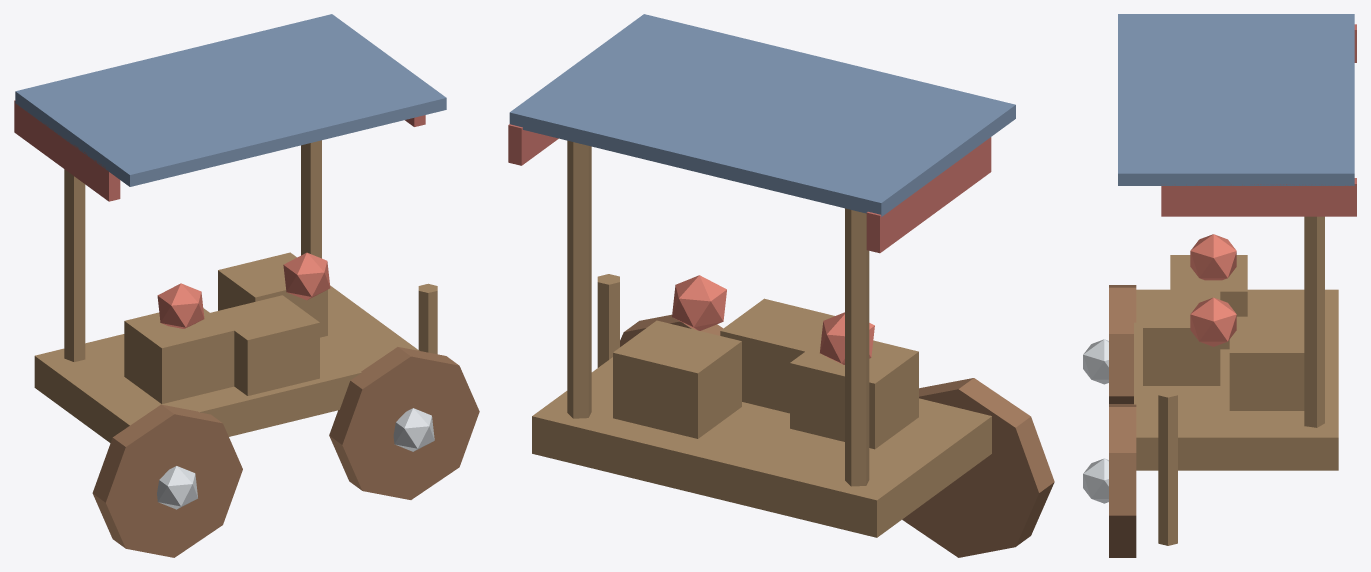
Rendered from vendor_cart.glb.
The picture shows the model from 3 angles, left to right: view 1: azimuth 30°, elevation 25°; view 2: azimuth 150°, elevation 25°; view 3: azimuth 270°, elevation 25°; orthographic projection. The views are drawn at different scales.
Parts seen in each view (by area): view 1: awning, bed, wheel_0, wheel_1, crate_0.001, crate_2.001, canopy_post_0, crate_1.001, valance_0, canopy_post_1, fruit_1, fruit_0 (+3 smaller); view 2: awning, bed, wheel_0, crate_1.001, crate_0.001, canopy_post_1, crate_2.001, canopy_post_0, valance_0, fruit_1, shaft.001, valance_1 (+2 smaller); view 3: awning, bed, crate_1.001, crate_2.001, valance_1, canopy_post_1, wheel_1, shaft.001, wheel_0, crate_0.001, fruit_1, fruit_0 (+2 smaller).
Boxes of the visible parts, x1,y1,x2,y2 form: awning: (15, 14, 446, 186); bed: (34, 285, 419, 442); wheel_0: (92, 404, 242, 557); wheel_1: (329, 347, 479, 499); crate_0.001: (124, 308, 234, 403); crate_2.001: (210, 295, 319, 395); canopy_post_0: (64, 169, 85, 361); crate_1.001: (218, 252, 327, 337); valance_0: (14, 100, 120, 201); canopy_post_1: (301, 140, 321, 258); fruit_1: (283, 252, 330, 300); fruit_0: (157, 283, 204, 328); awning: (509, 14, 1015, 216); bed: (532, 357, 991, 537); wheel_0: (902, 378, 1054, 557); crate_1.001: (613, 320, 741, 438); crate_0.001: (790, 340, 918, 449); canopy_post_1: (567, 140, 591, 418); crate_2.001: (720, 298, 834, 413); canopy_post_0: (845, 208, 869, 486); valance_0: (866, 137, 991, 253); fruit_1: (672, 275, 726, 330); shaft.001: (597, 274, 619, 367); valance_1: (508, 124, 558, 165); awning: (1118, 14, 1354, 185); bed: (1134, 289, 1338, 470); crate_1.001: (1229, 316, 1304, 410); crate_2.001: (1143, 291, 1220, 385); valance_1: (1161, 178, 1356, 216); canopy_post_1: (1304, 216, 1324, 427); wheel_1: (1109, 404, 1136, 557); shaft.001: (1158, 388, 1177, 545); wheel_0: (1109, 285, 1136, 403); crate_0.001: (1170, 255, 1247, 349); fruit_1: (1190, 297, 1236, 346); fruit_0: (1190, 234, 1236, 280).
Bounding box in the file's own units: 1.96 × 1.95 × 1.2.
